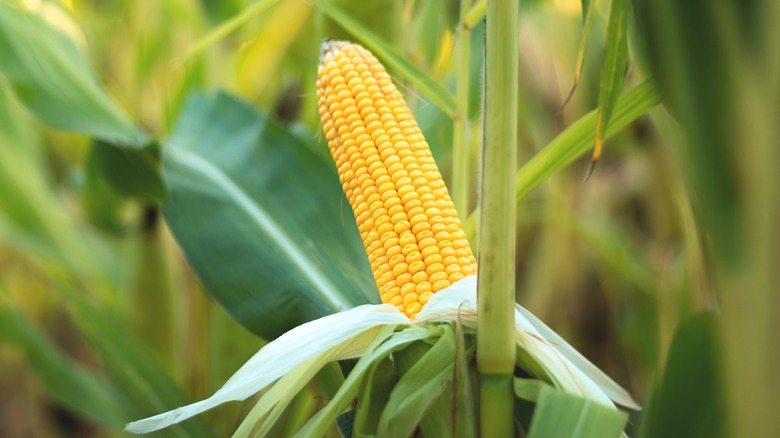corn: (314, 34, 486, 334)
